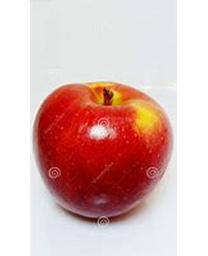apple: (30, 80, 173, 220)
